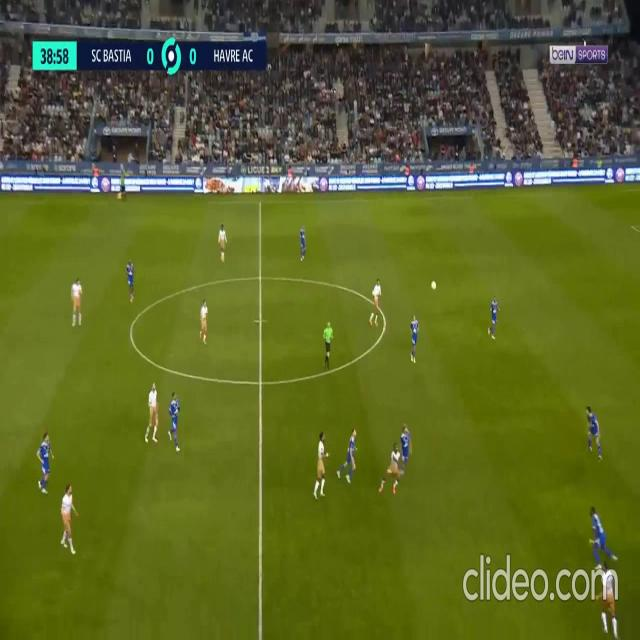ball: (431, 280, 436, 291), (380, 481, 385, 491)
player: (60, 482, 78, 554), (337, 427, 359, 485), (380, 442, 404, 495), (36, 431, 53, 493), (313, 433, 327, 500), (604, 564, 617, 630), (146, 381, 159, 442), (587, 406, 601, 460), (398, 423, 412, 477), (168, 392, 180, 451), (370, 278, 382, 326), (72, 276, 82, 326), (409, 314, 419, 362), (489, 296, 500, 339), (199, 300, 208, 344), (126, 259, 135, 303), (219, 225, 227, 262), (118, 170, 126, 202), (299, 225, 306, 260)
referee: (323, 320, 333, 370), (118, 170, 126, 202), (210, 169, 217, 197)
